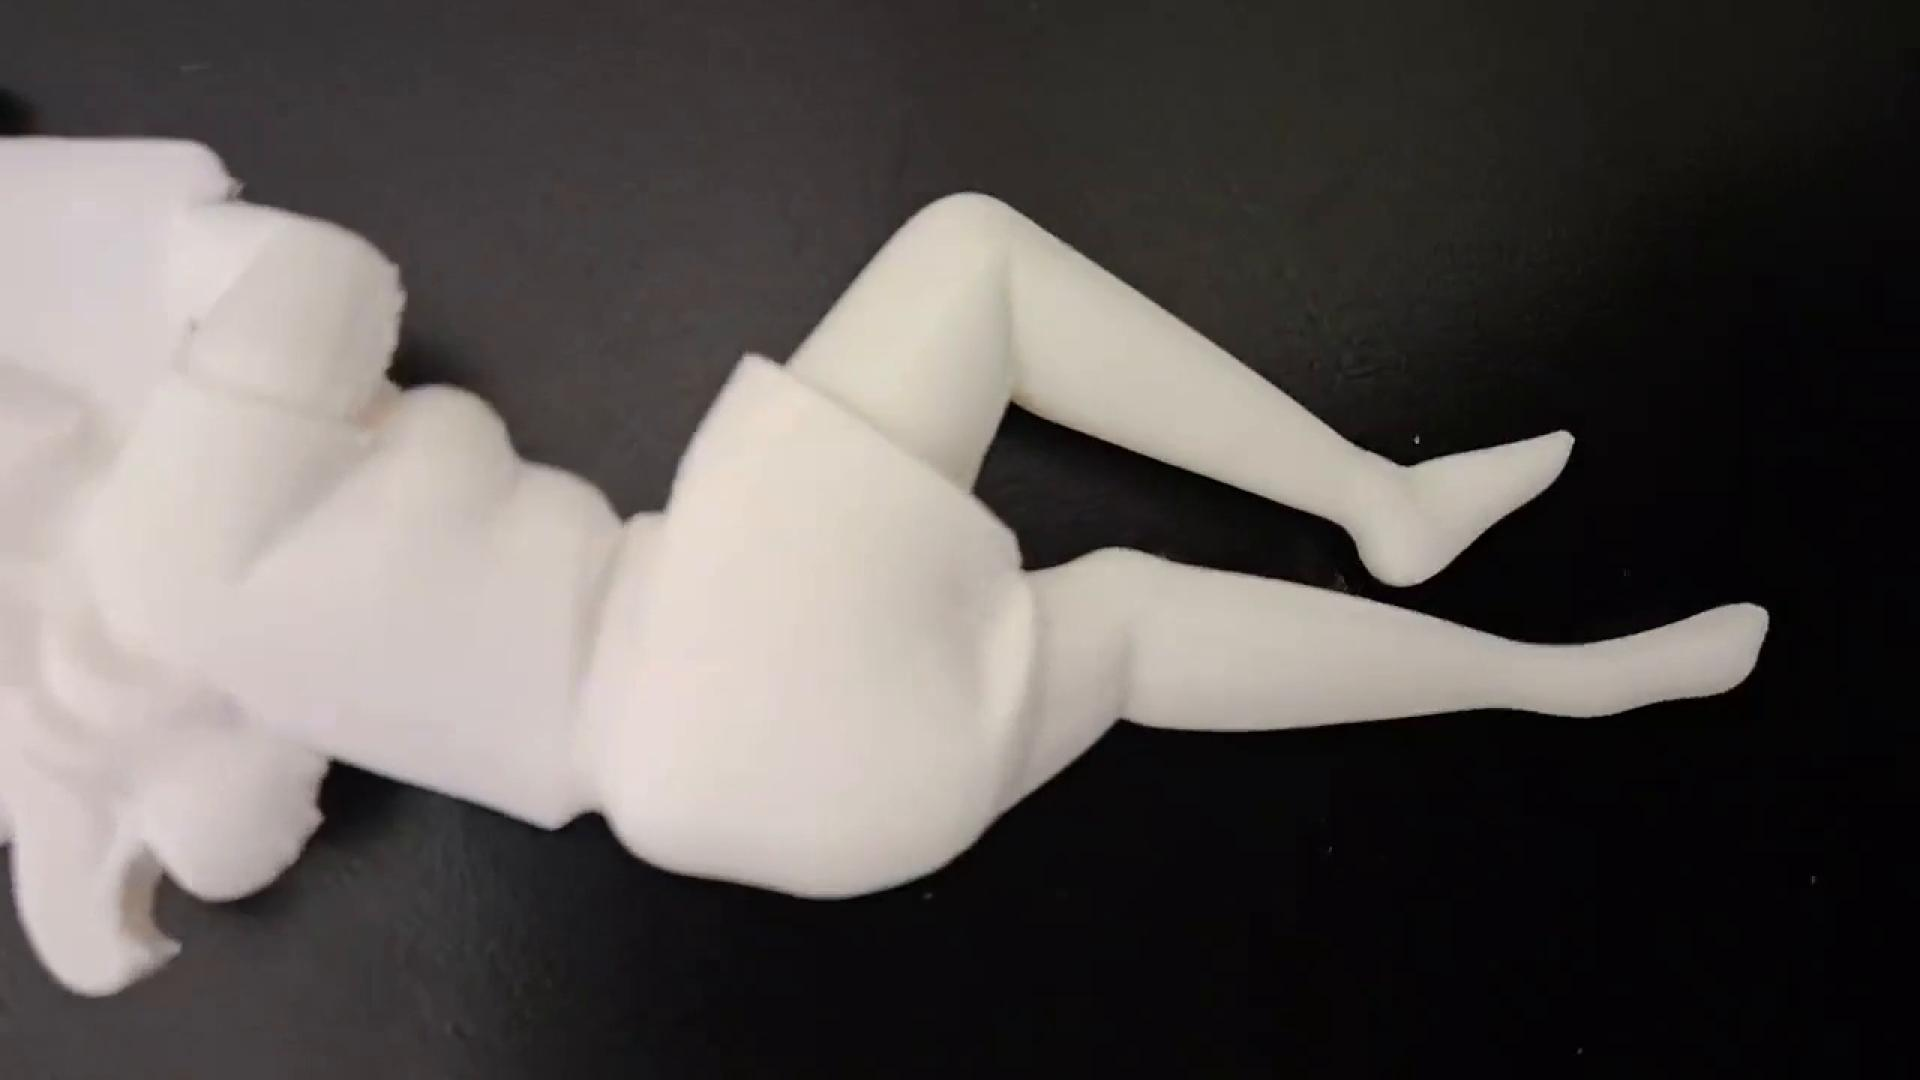Good-style: (3, 121, 1776, 1001)
